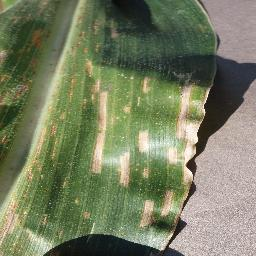Gray_Leaf_Spot: (159, 68, 221, 235), (60, 0, 124, 83), (0, 0, 49, 81), (87, 85, 116, 175), (24, 120, 59, 193), (116, 100, 133, 189), (3, 193, 29, 246), (43, 83, 76, 122), (0, 81, 31, 121), (0, 121, 17, 171), (137, 196, 158, 233), (138, 126, 153, 154), (134, 73, 153, 95), (139, 166, 153, 185), (58, 172, 70, 191), (39, 210, 51, 228), (80, 209, 93, 221), (56, 230, 67, 243), (75, 195, 83, 207), (81, 93, 86, 112)
